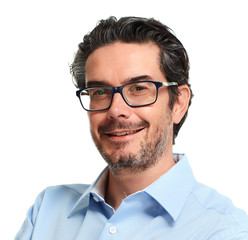young: (67, 15, 198, 170)
